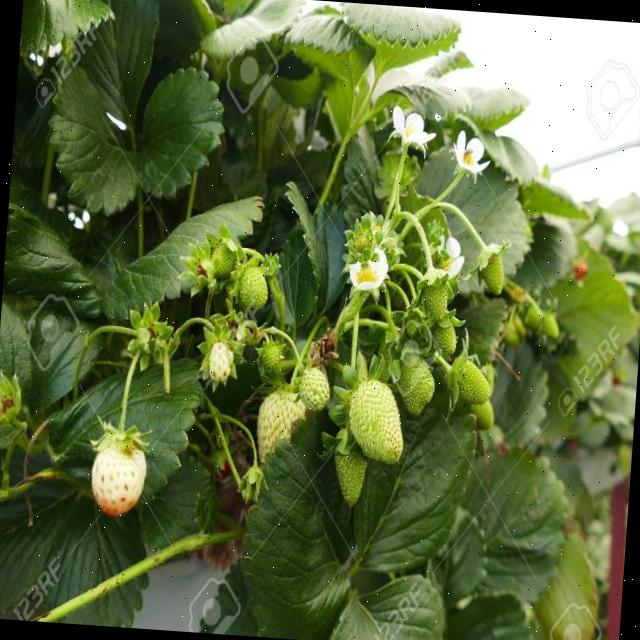strawberry: (345, 376, 406, 464), (88, 432, 147, 516), (254, 385, 306, 468), (330, 430, 368, 504), (393, 353, 435, 418), (448, 356, 491, 404), (420, 266, 450, 320), (236, 262, 269, 310), (478, 240, 506, 296), (298, 364, 330, 411), (206, 238, 236, 276), (430, 316, 458, 356), (208, 340, 234, 380), (259, 342, 281, 372)
